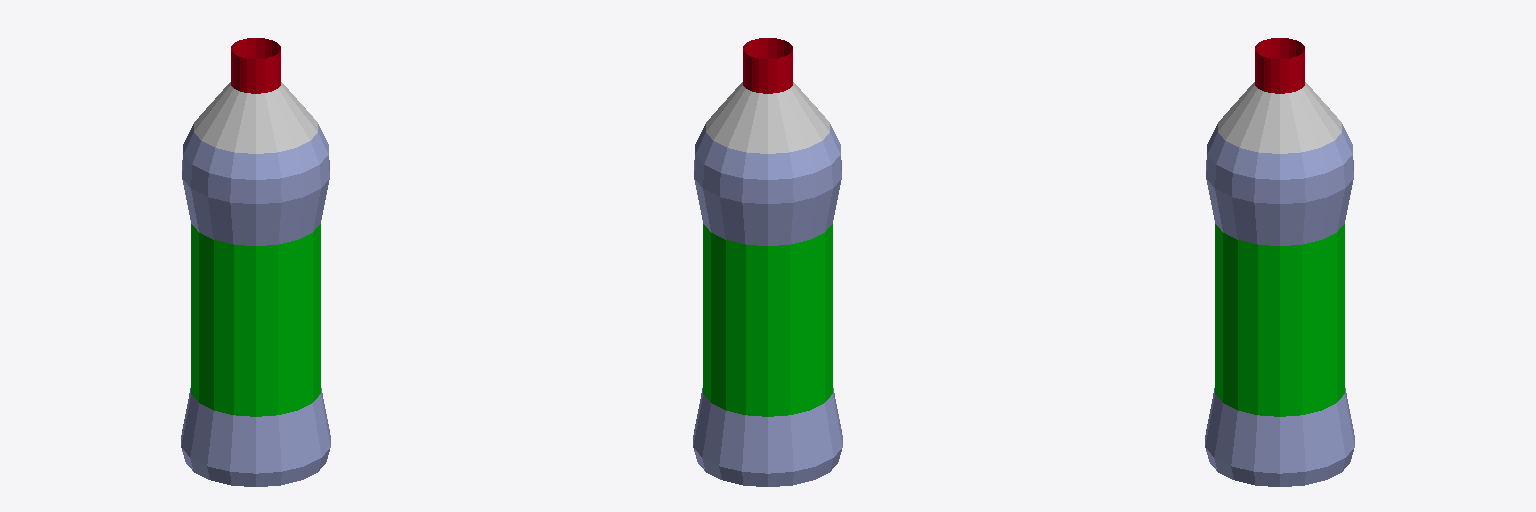
The model's file is Juice.obj.
3 views of the same model, side by side, from view 1: azimuth 30°, elevation 25°; view 2: azimuth 150°, elevation 25°; view 3: azimuth 270°, elevation 25° (orthographic).
Parts seen in each view (by area): view 1: Plane; view 2: Plane; view 3: Plane.
Boxes of the visible parts, box(x1,y1,x2,y2) form: Plane: box(181, 38, 330, 486); Plane: box(693, 38, 842, 486); Plane: box(1205, 38, 1354, 486).
Size of the model in its own units: 0.4816 by 1.45 by 0.4743.